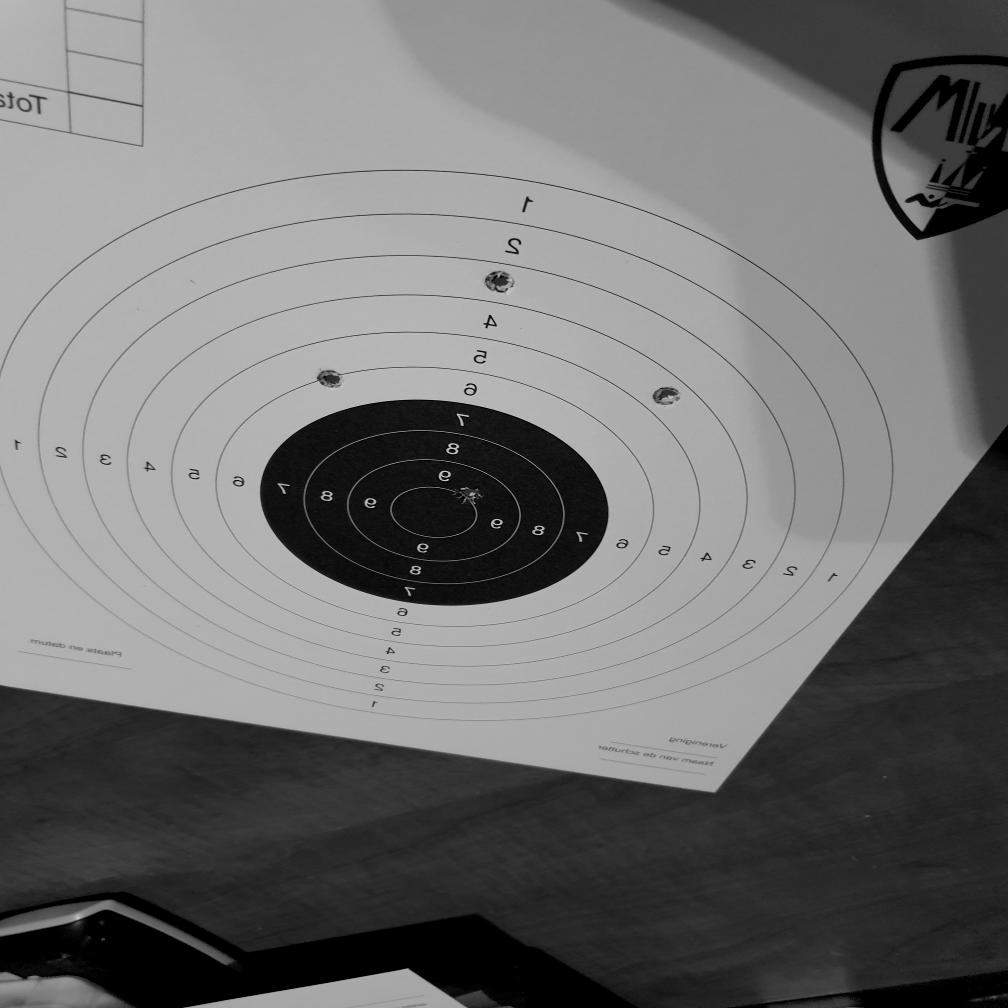10: (450, 486, 485, 506)
3: (481, 270, 516, 294)
4: (651, 386, 682, 408)
6: (314, 368, 344, 390)
Target: (0, 165, 899, 724)
black_contour: (261, 398, 609, 605)
